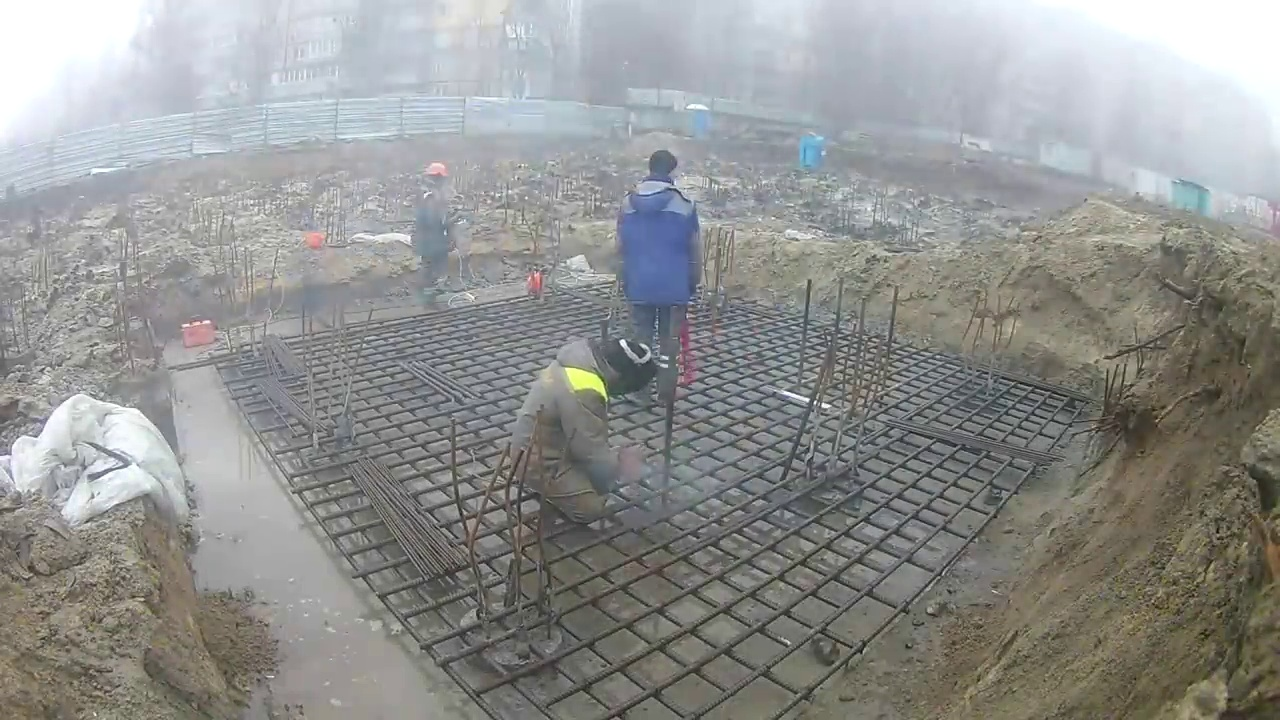helmet: (526, 272, 542, 300), (303, 231, 324, 249), (425, 163, 447, 178)
helmet-off: (583, 339, 655, 398), (643, 150, 678, 186)
helmet-on: (425, 161, 448, 187)
person: (510, 337, 655, 537), (606, 146, 700, 407), (413, 163, 450, 310)
